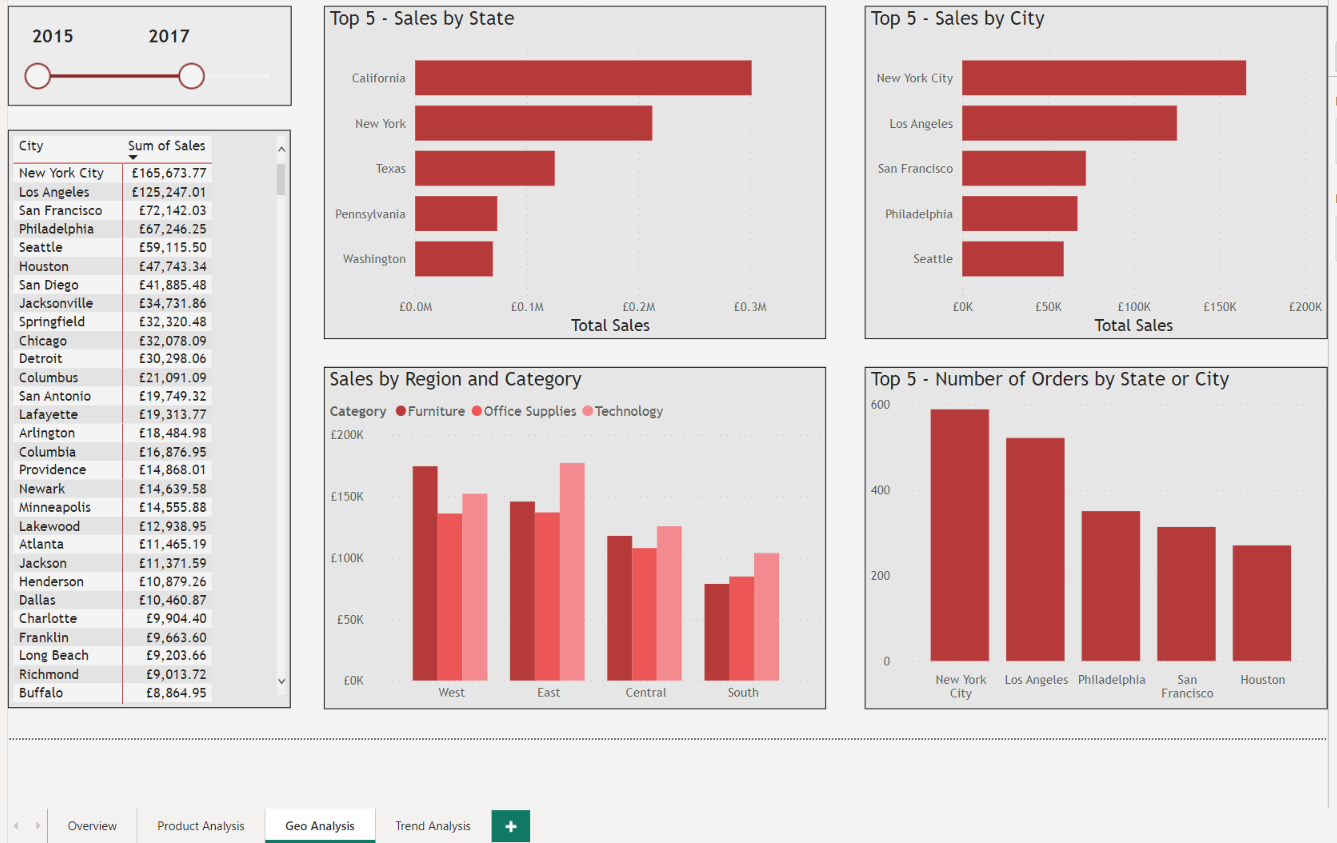

What the dashboard file says about the page in this screenshot:
{"tool":"powerbi","page":{"name":"Geo Analysis","canvas":[1280,720],"ordinal":2},"visuals":[{"type":"clusteredColumnChart","title":"Top 5 - Number of Orders by State or City","fields":{"Category":["SuperstoreData.State","SuperstoreData.City"],"Y":["Measures_Dim.Total Number of Orders"]},"box":[831.2,359.8,449,331.7],"z":0},{"type":"clusteredBarChart","title":"Top 5 - Sales by State","fields":{"Category":["SuperstoreData.State"],"Y":["Measures_Dim.Total Sales"]},"box":[306.1,9.4,487.5,322.9],"z":1000},{"type":"clusteredColumnChart","title":"Sales by Region and Category","fields":{"Y":["Sum(SuperstoreData.Sales)"],"Category":["SuperstoreData.Region"],"Series":["SuperstoreData.Category"]},"box":[306.5,359.8,486.9,331.7],"z":2000},{"type":"pivotTable","fields":{"Values":["Sum(SuperstoreData.Sales)"],"Rows":["SuperstoreData.State","SuperstoreData.City"]},"box":[0,130.1,274.3,561.2],"z":3000},{"type":"clusteredBarChart","title":"Top 5 - Sales by City","fields":{"Category":["SuperstoreData.City"],"Y":["Measures_Dim.Total Sales"]},"box":[831.4,10,448.6,322.9],"z":4000},{"type":"slicer","fields":{"Values":["SuperstoreData.Order Date.Variation.Date Hierarchy.Year"]},"box":[0,9.6,274.9,97.1],"z":5000}]}

Visuals, with their boxes in screenshot pixels (x1, y1, x2, y2):
"Top 5 - Number of Orders by State or City" clusteredColumnChart: Rect(860, 364, 1322, 705)
"Top 5 - Sales by State" clusteredBarChart: Rect(319, 3, 821, 335)
"Sales by Region and Category" clusteredColumnChart: Rect(319, 364, 821, 705)
pivotTable - Sum(SuperstoreData.Sales) x SuperstoreData.State: Rect(3, 127, 286, 705)
"Top 5 - Sales by City" clusteredBarChart: Rect(860, 3, 1322, 336)
slicer - SuperstoreData.Order Date.Variation.Date Hierarchy.Year: Rect(3, 3, 287, 103)
